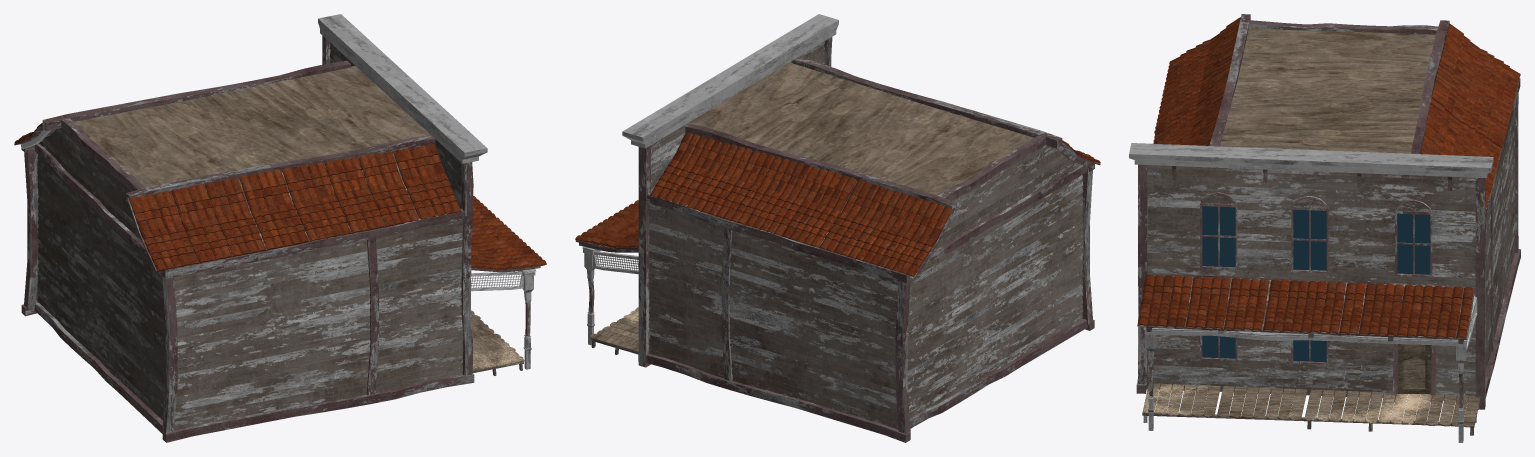
Rendered from General Store 1.fbx.
The picture shows the model from 3 angles, left to right: view 1: azimuth 30°, elevation 25°; view 2: azimuth 150°, elevation 25°; view 3: azimuth 270°, elevation 25°; orthographic projection. The views are drawn at different scales.
Parts seen in each view (by area): view 1: polySurface2578; view 2: polySurface2578; view 3: polySurface2578.
Boxes of the visible parts, x1=… form: polySurface2578: x1=14, y1=14, x2=546, y2=442; polySurface2578: x1=575, y1=14, x2=1100, y2=442; polySurface2578: x1=1129, y1=14, x2=1520, y2=442.
Size of the model in its own units: 1406 by 810 by 1151.
